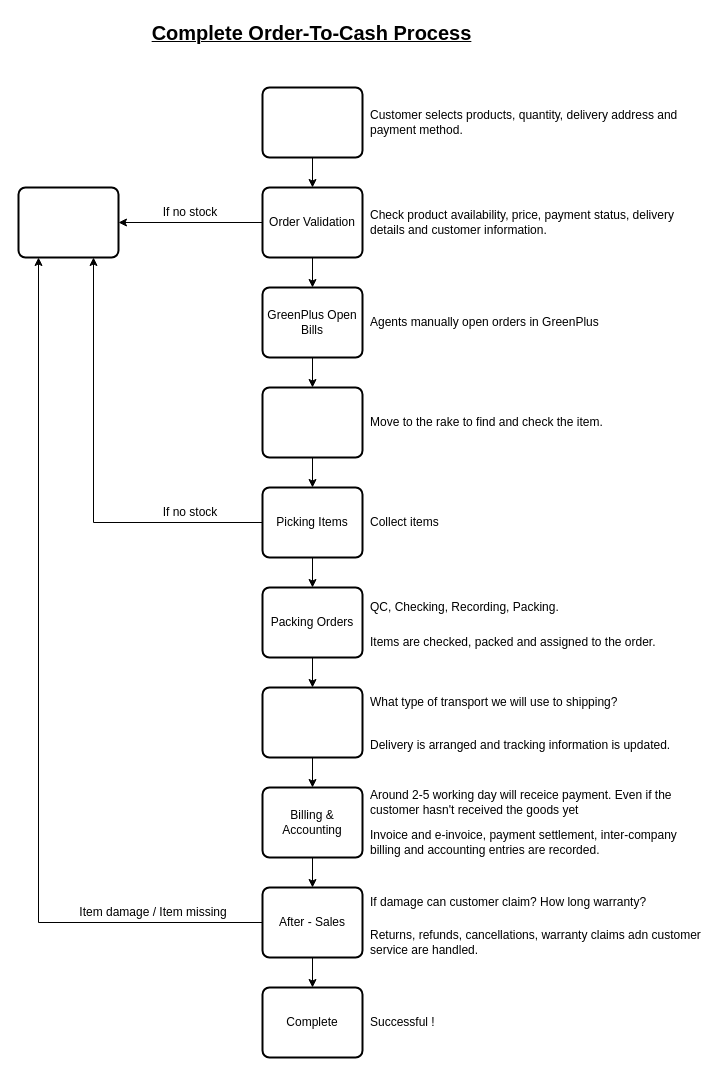
Some shapes in this 725 by 1075 pixel diagram are drawn without their labels. The shapes that lost their labels are listed below. From the top down, each one's centre as x and y in pixels, then its label:
At pixel 312 122: "Customer Places Order".
At pixel 68 222: "Cancel Orders".
At pixel 312 422: "Stock Allocation".
At pixel 312 722: "Delivery / Collection".
